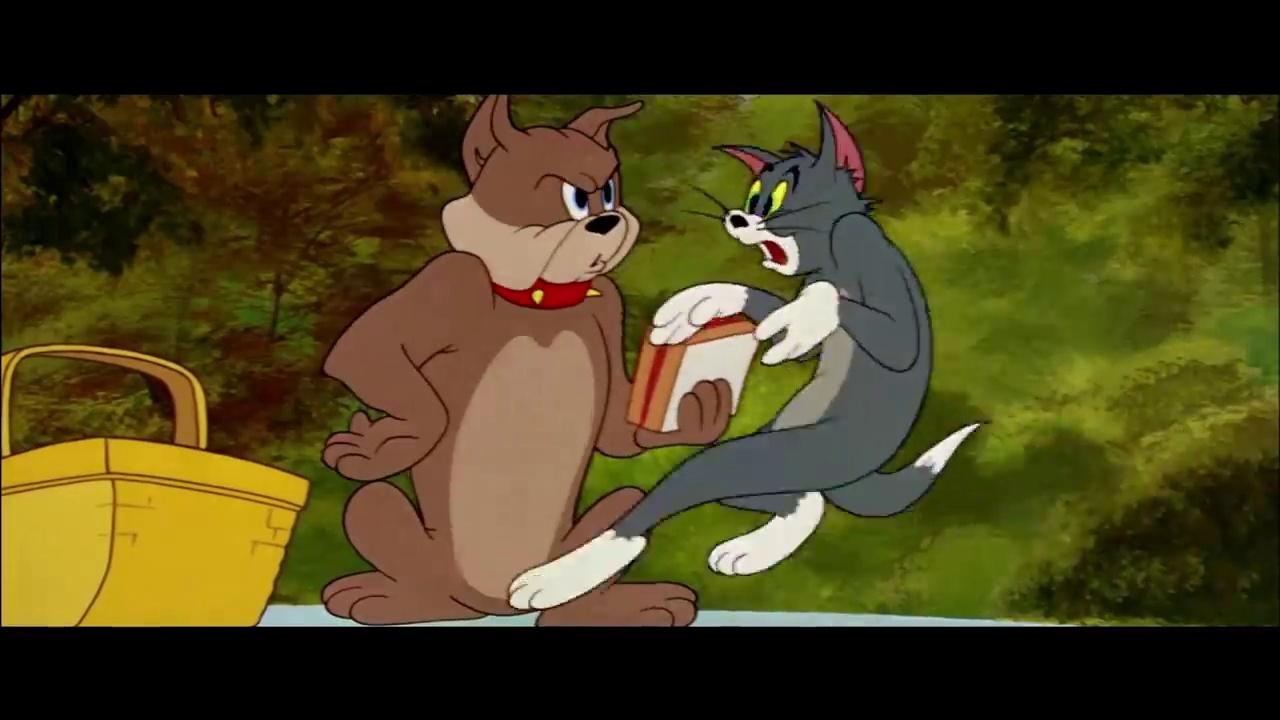Tom: (504, 97, 993, 613)
